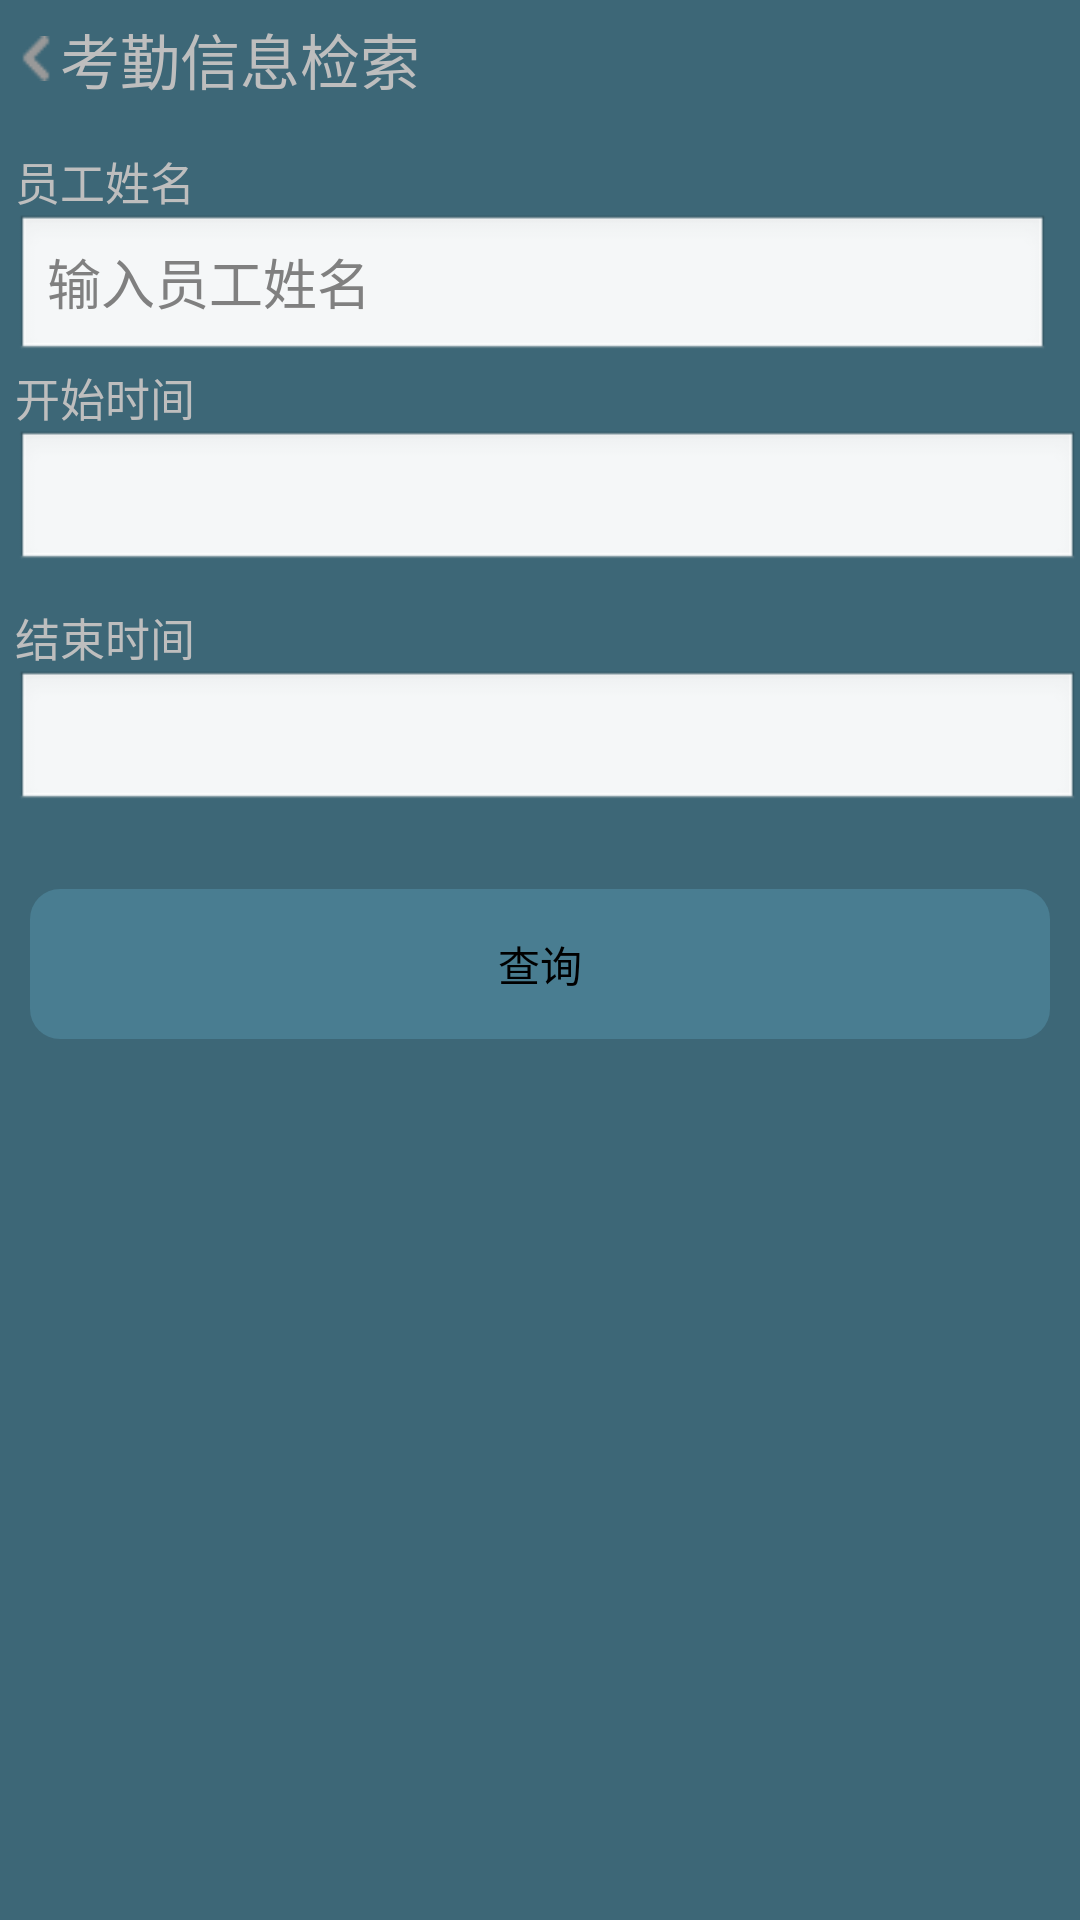

Point at icon controls on the screen. Image size 1080px×1920px, points as (x=x, y=y).
left: (x=36, y=58)
